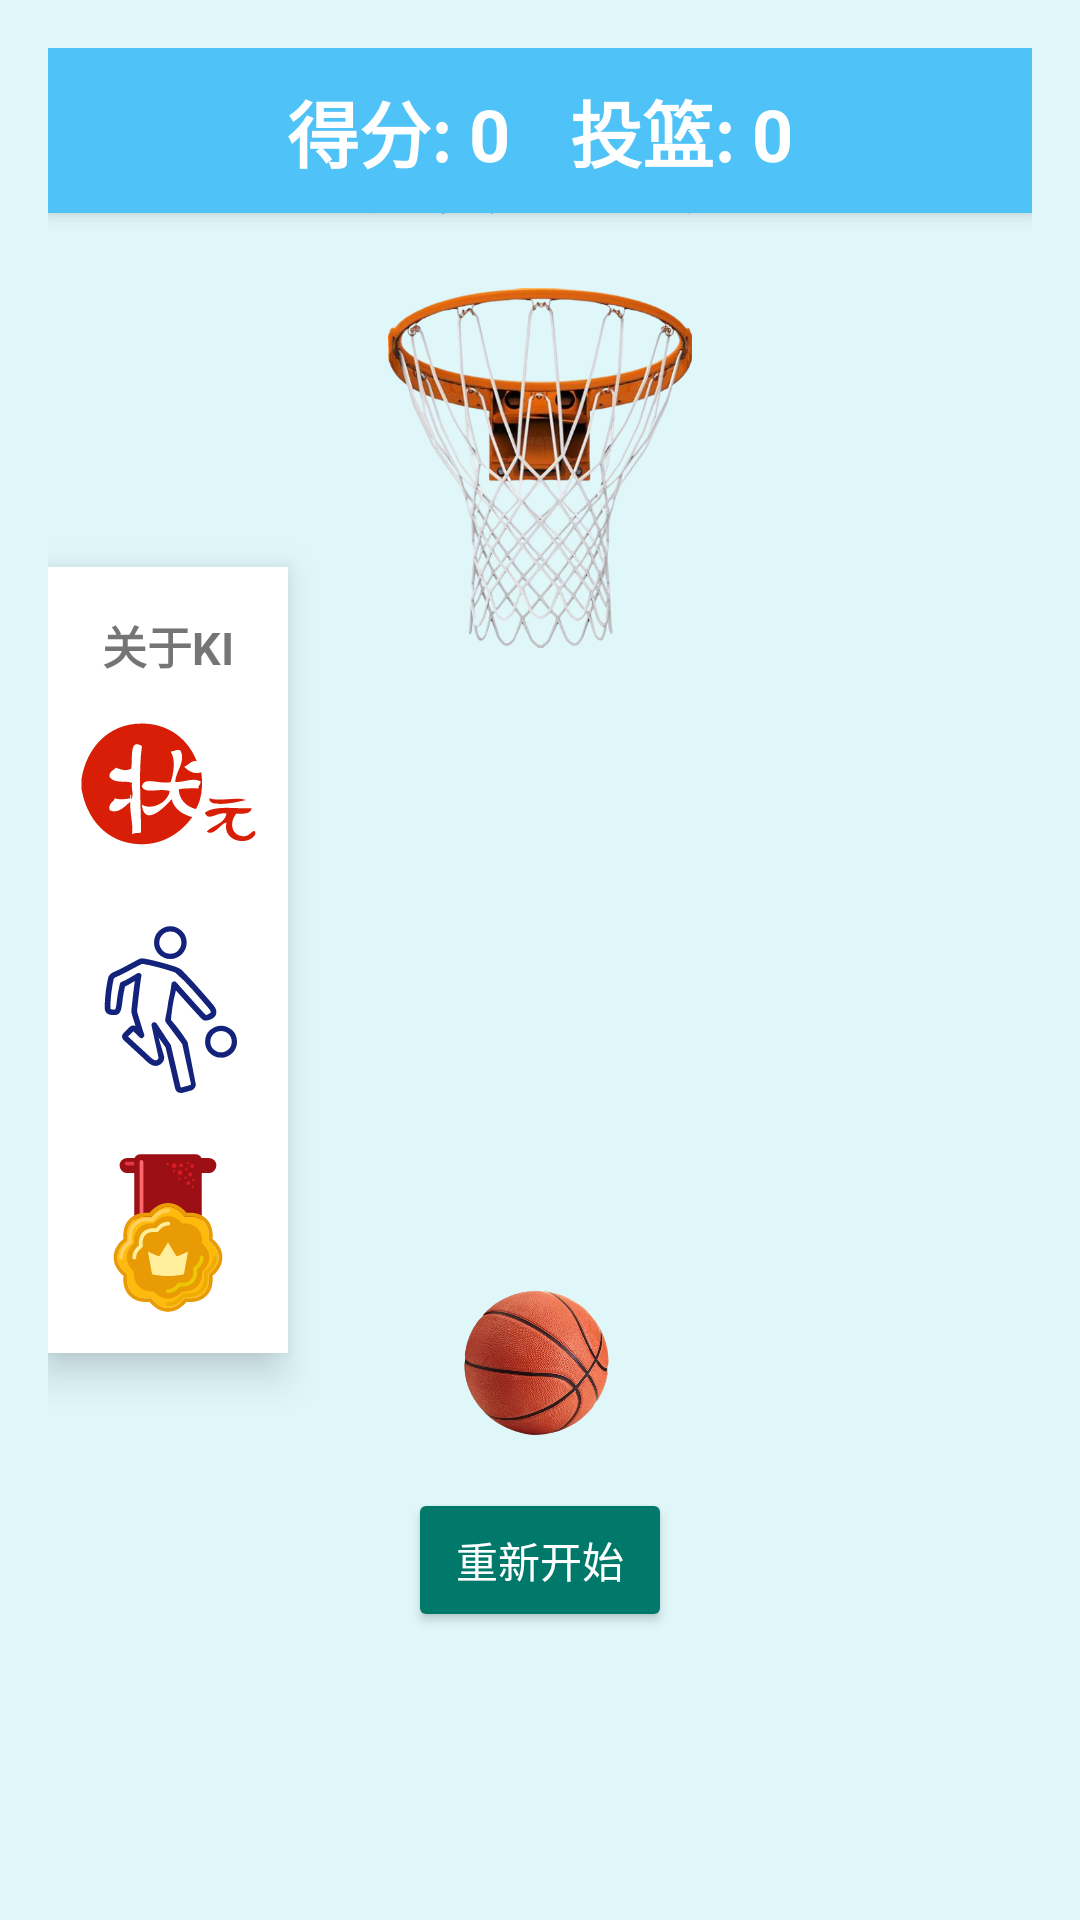

Screen size 1080×1920. Icon name, then its center in pixels as [x,y]:
basketball: [536,1363]
hoop: [540,468]
运球: [170,1009]
